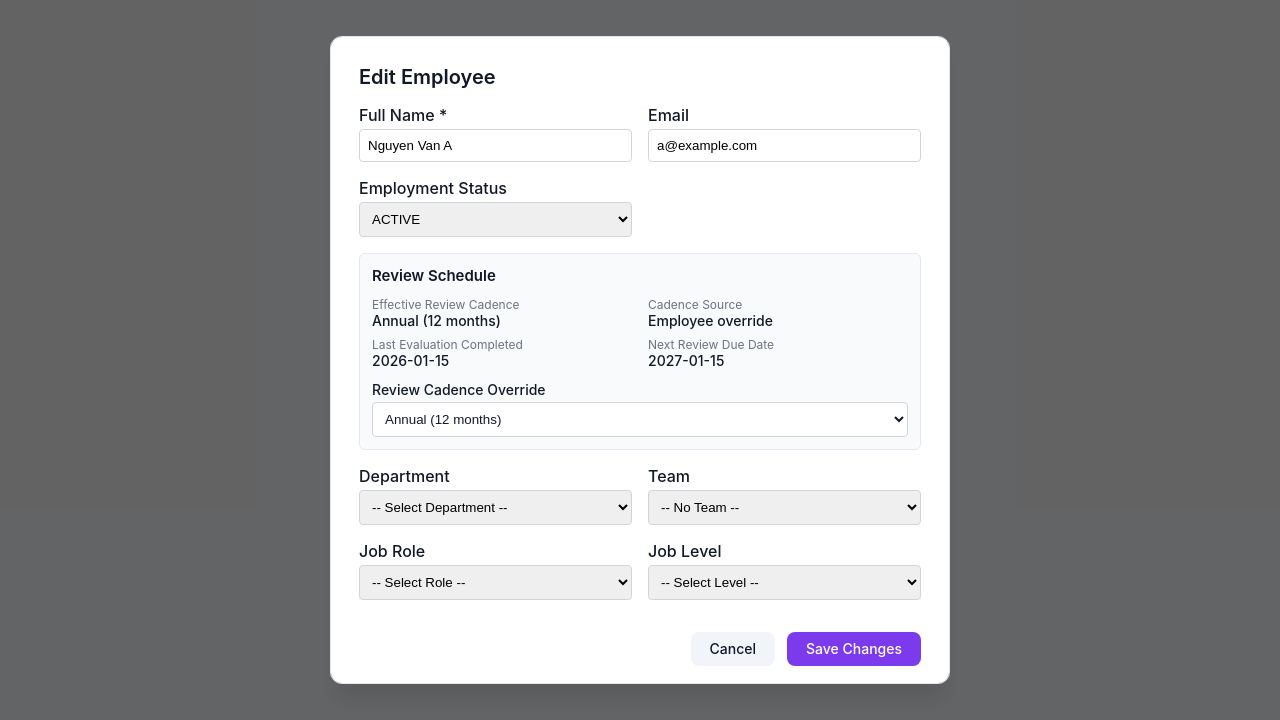
Employee review schedule (frontend) › TC67 409 VERSION_MISMATCH shows message, code and reload hint while keeping values and the modal open
The width and height of the screenshot is (1280, 720).
Step 1. Replace the text in the field labelled "Full Name *" with "Edited Name" → (496, 146), box [359, 129, 632, 162]
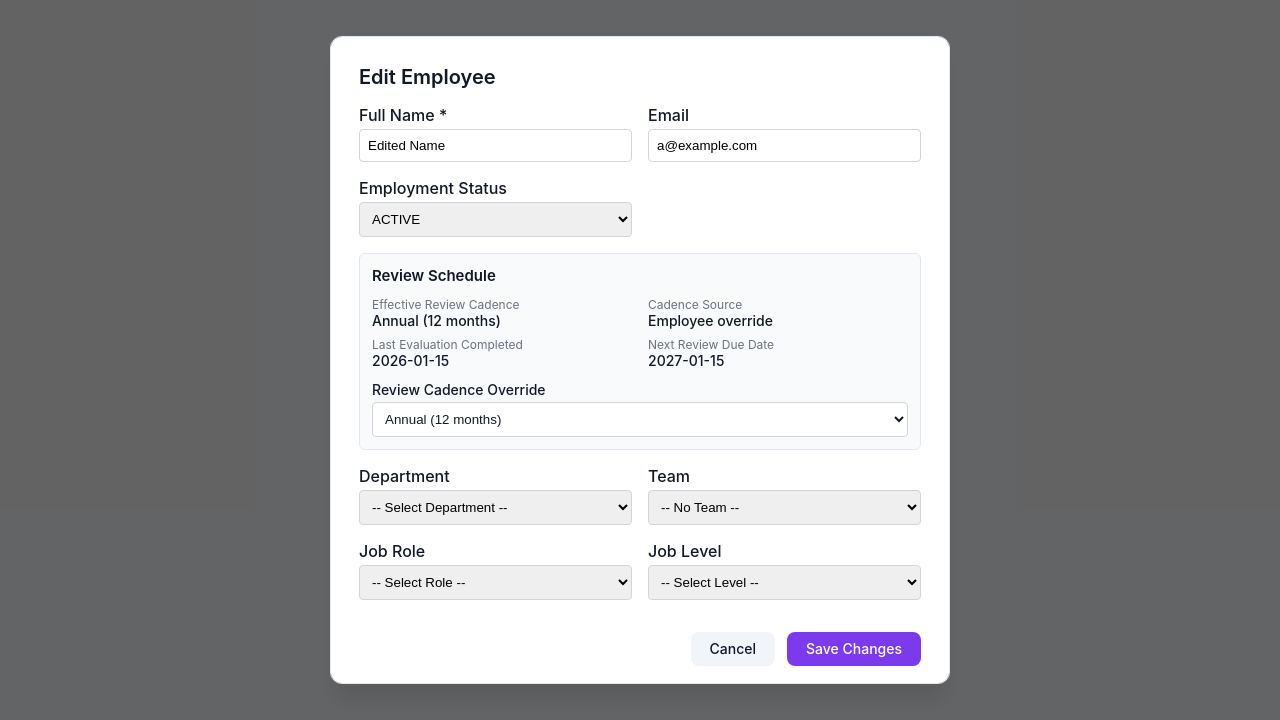
Step 2. Click the button "Save Changes" → (854, 649), box [787, 632, 921, 666]
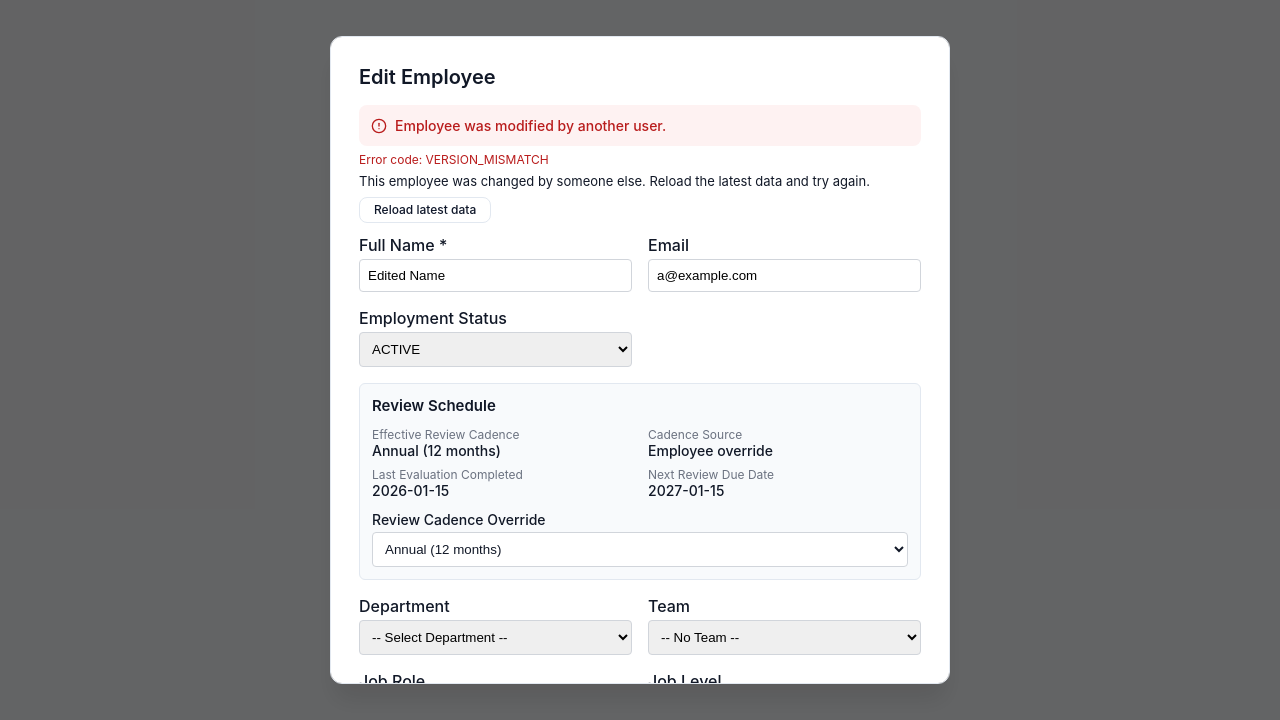
Result: the text "Employee was modified by another user." is shown at [395, 117, 666, 134]
Result: the text with test id "employee-form-error-code" shows "VERSION_MISMATCH" at [426, 152, 549, 167]
Result: the text "Reload the latest data and try again" is shown at [359, 173, 870, 189]
